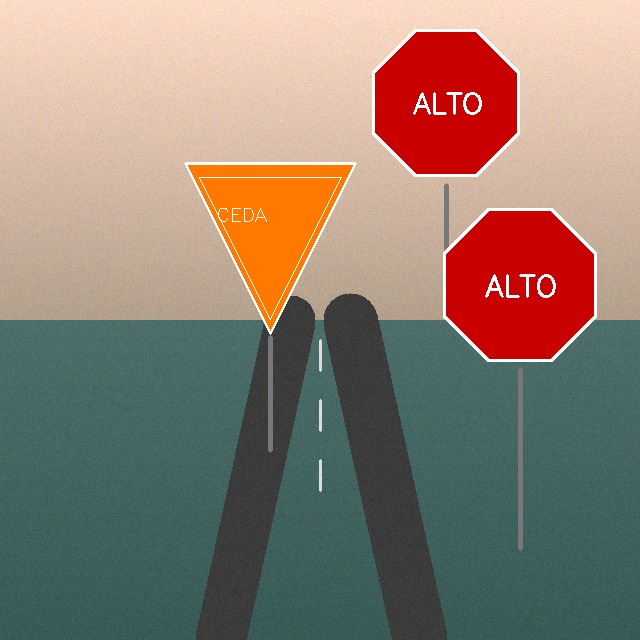alto: (436, 201, 604, 369), (365, 22, 528, 185)
ceda_el_paso: (181, 159, 359, 337)
